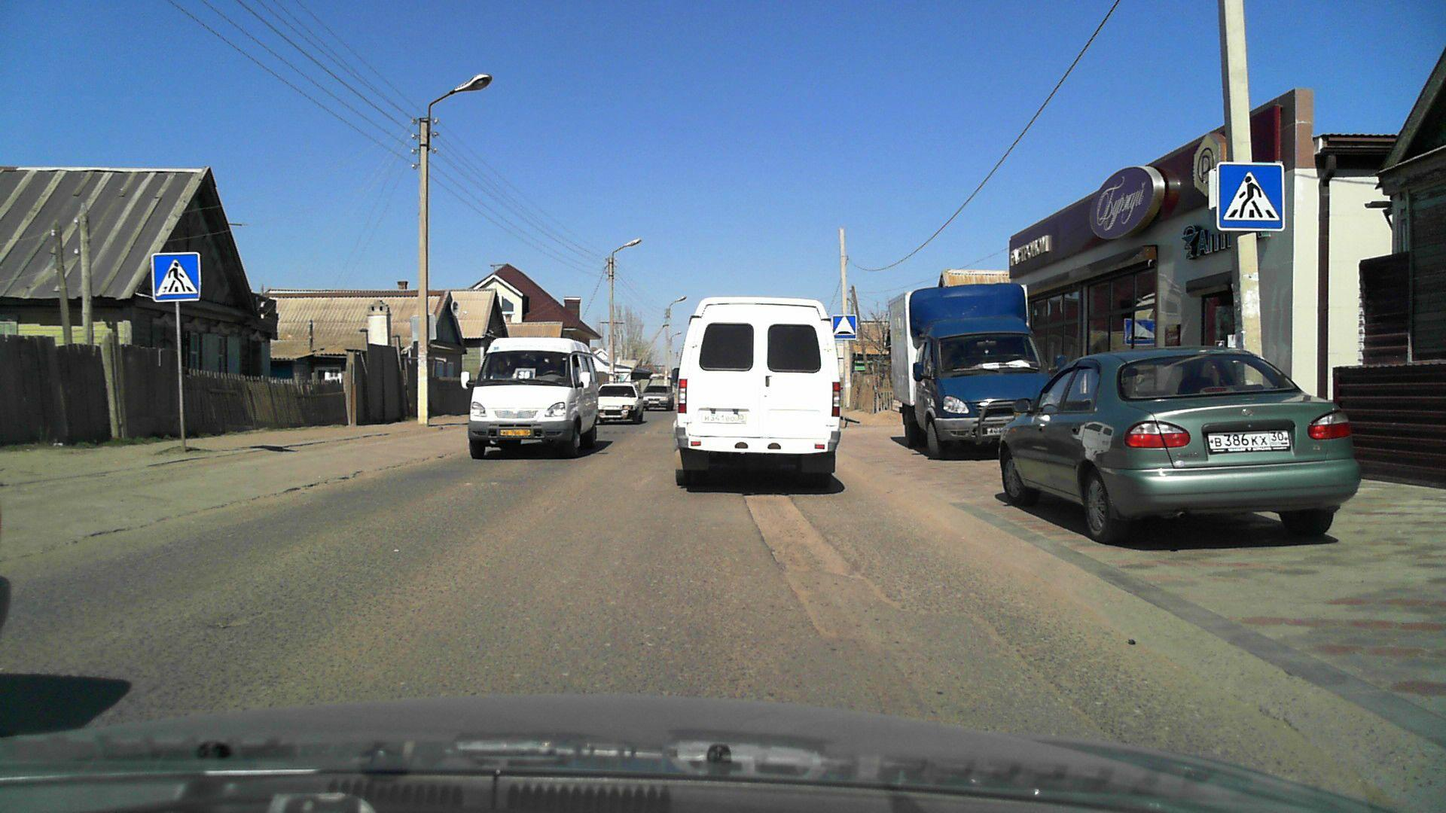road_sign: (1211, 162, 1284, 232), (151, 253, 200, 301), (831, 315, 857, 340)
